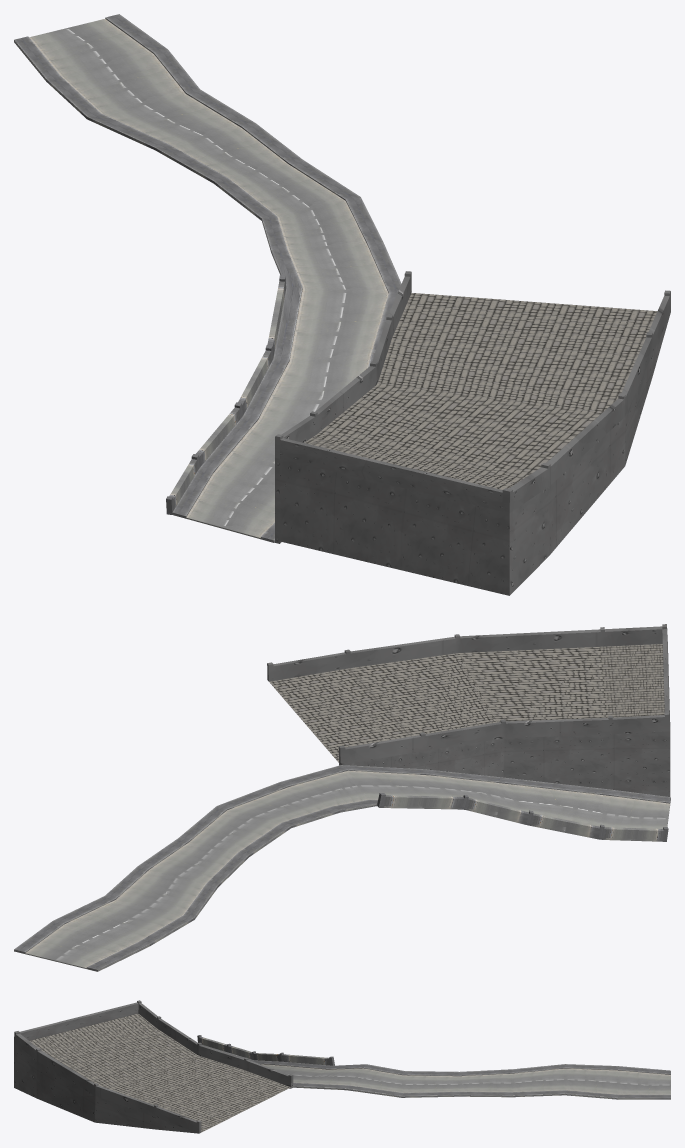
Rendered from road-curved-with-plaza.fbx.
3 views of the same model, one above another, from view 1: azimuth 30°, elevation 25°; view 2: azimuth 150°, elevation 25°; view 3: azimuth 270°, elevation 25° (orthographic). The views are drawn at different scales.
Parts seen in each view (by area): view 1: plaza_platform, curved_road, wall; view 2: plaza_platform, curved_road, wall; view 3: plaza_platform, curved_road, wall.
Boxes of the visible parts, bbox=[...] form: plaza_platform: bbox=[275, 271, 670, 595]; curved_road: bbox=[14, 14, 401, 542]; wall: bbox=[166, 275, 286, 514]; plaza_platform: bbox=[267, 624, 670, 796]; curved_road: bbox=[14, 765, 670, 971]; wall: bbox=[377, 793, 668, 841]; plaza_platform: bbox=[14, 1000, 293, 1133]; curved_road: bbox=[203, 1045, 670, 1099]; wall: bbox=[197, 1035, 334, 1065].
Size of the model in its own units: 42.63 by 8.58 by 88.64.
